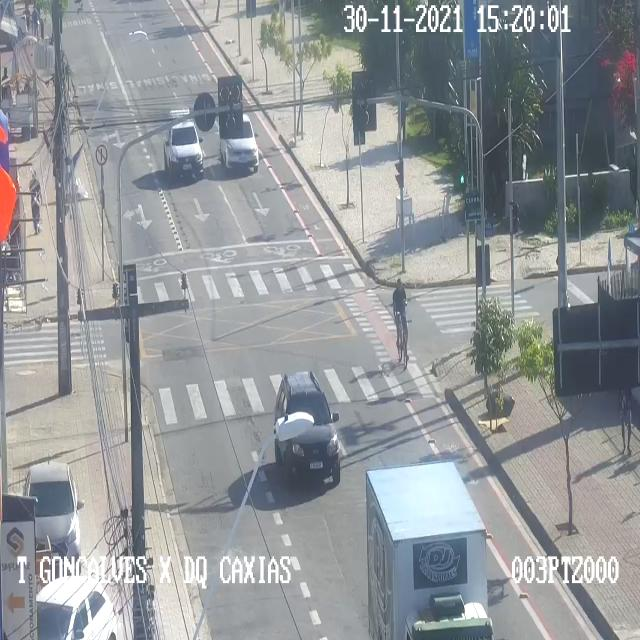Car: (274, 373, 340, 482), (24, 463, 80, 573), (36, 575, 116, 639), (164, 109, 202, 178), (220, 114, 258, 170)
Truck: (366, 460, 494, 639)
